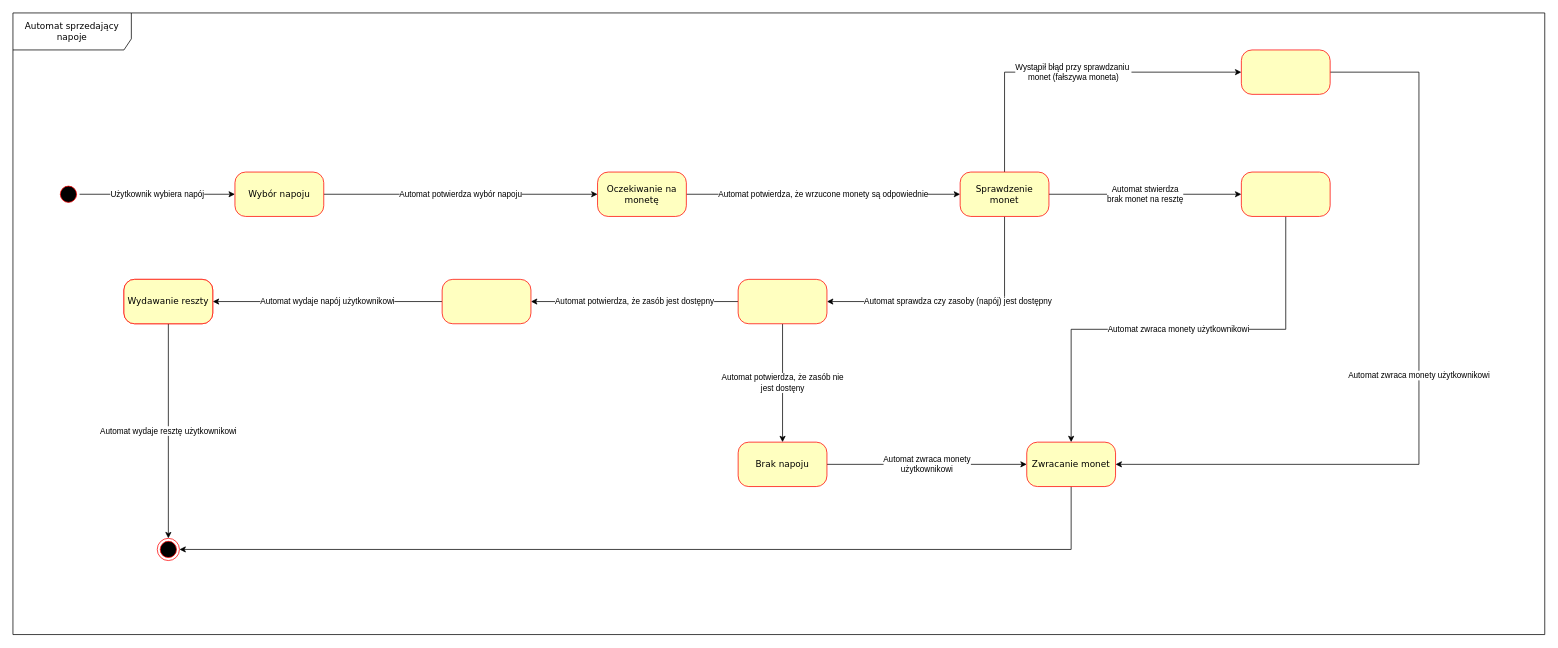
The diagram is 1558 pixels wide and 648 high, and some of its shapes have lost their labels. The shapes that lost their labels are listed below. From the top down, each one's box as (x1, y1, x2, y2) in pixels, then its label:
(1241, 49, 1330, 94): Błąd płatności
(1241, 171, 1330, 216): Brak monet na resztę
(441, 279, 531, 324): Wydawanie napoju
(737, 279, 827, 324): Sprawdzenie zasobów
